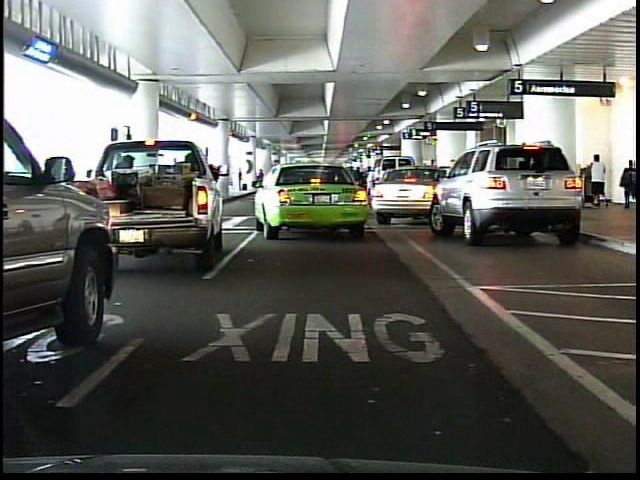person: (590, 152, 609, 211), (617, 158, 636, 211)
